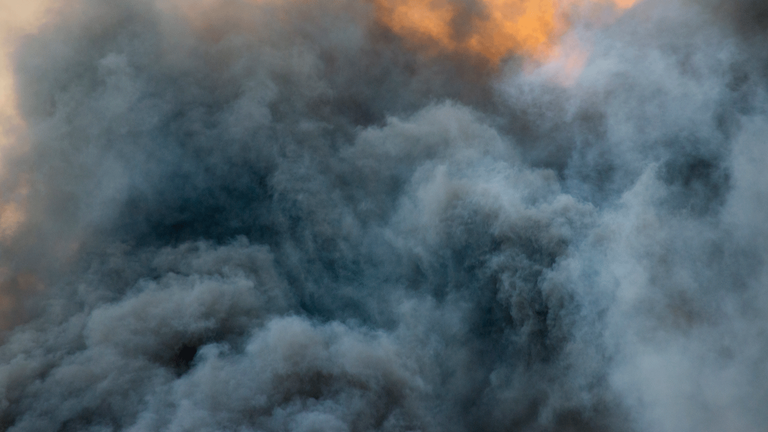smoke: (2, 8, 763, 432)
